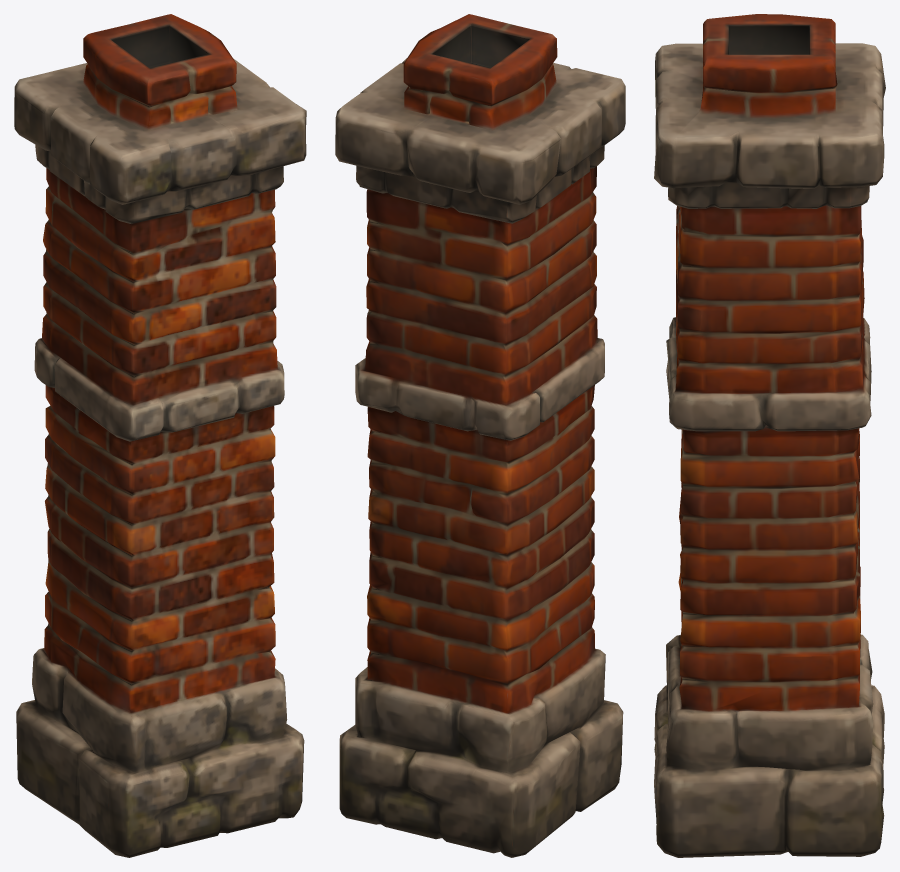
The model's file is HK_chimney_brick.glb.
3 renders of one model, left to right at view 1: azimuth 30°, elevation 25°; view 2: azimuth 150°, elevation 25°; view 3: azimuth 270°, elevation 25°, orthographic. The views are drawn at different scales.
Parts seen in each view (by area): view 1: geometry_0; view 2: geometry_0; view 3: geometry_0.
Boxes of the visible parts, box(x1,y1,x2,y2) form: geometry_0: box(14, 14, 306, 857); geometry_0: box(335, 14, 625, 857); geometry_0: box(654, 14, 885, 857).
Size of the model in its own units: 0.2646 by 0.9507 by 0.2588.
1 material, 1 textured.
